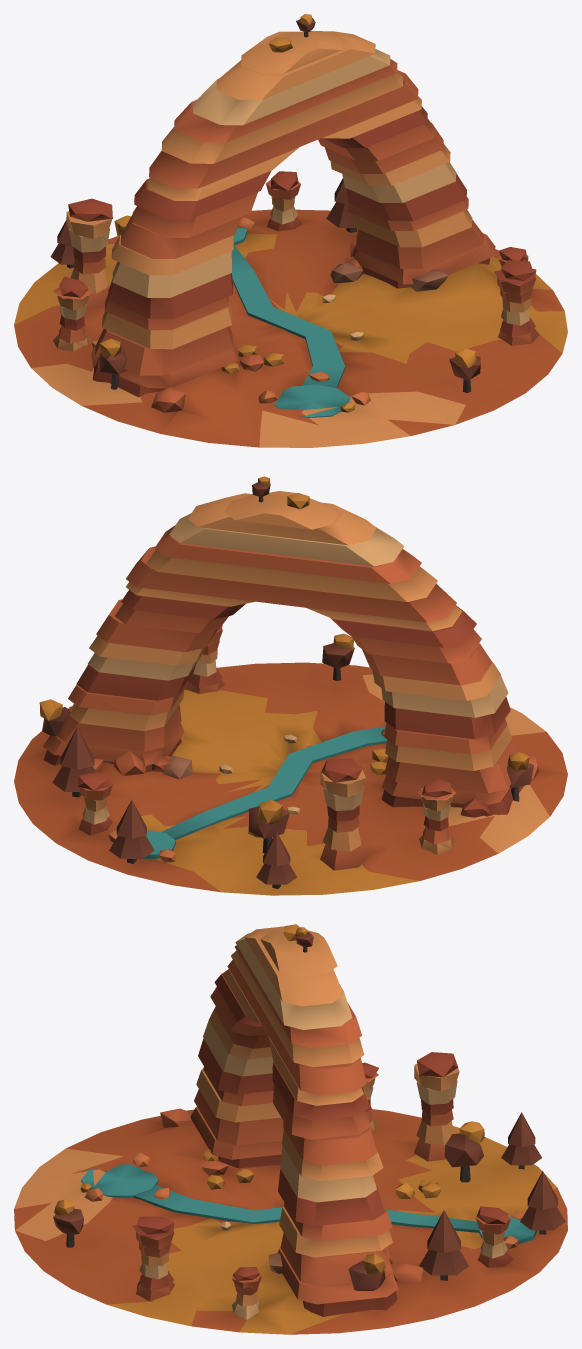
Rendered from nw_sky_arch.glb.
The picture shows the model from 3 angles, top to bottom: view 1: azimuth 30°, elevation 25°; view 2: azimuth 150°, elevation 25°; view 3: azimuth 270°, elevation 25°; orthographic projection.
Visible parts, largest first — view 1: nw_sky_arch; view 2: nw_sky_arch; view 3: nw_sky_arch.
Part boxes in pixels (<box>): nw_sky_arch: <box>14,14,567,447</box>; nw_sky_arch: <box>14,476,567,895</box>; nw_sky_arch: <box>14,924,567,1334</box>.
Size of the model in its own units: 1.55 by 0.9486 by 1.57.
